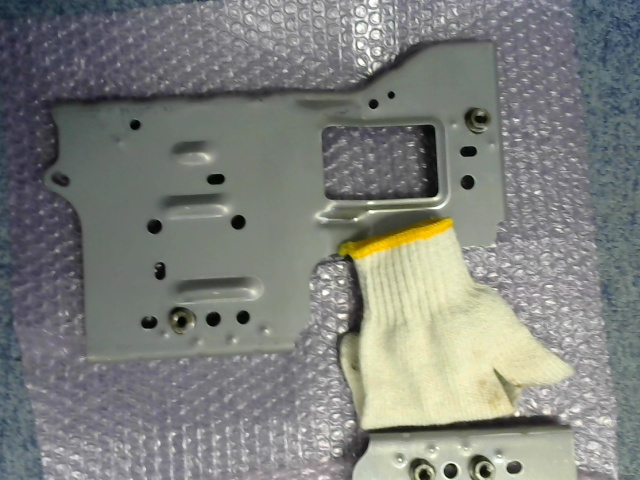dog: (169, 307, 197, 334), (464, 107, 490, 133)
